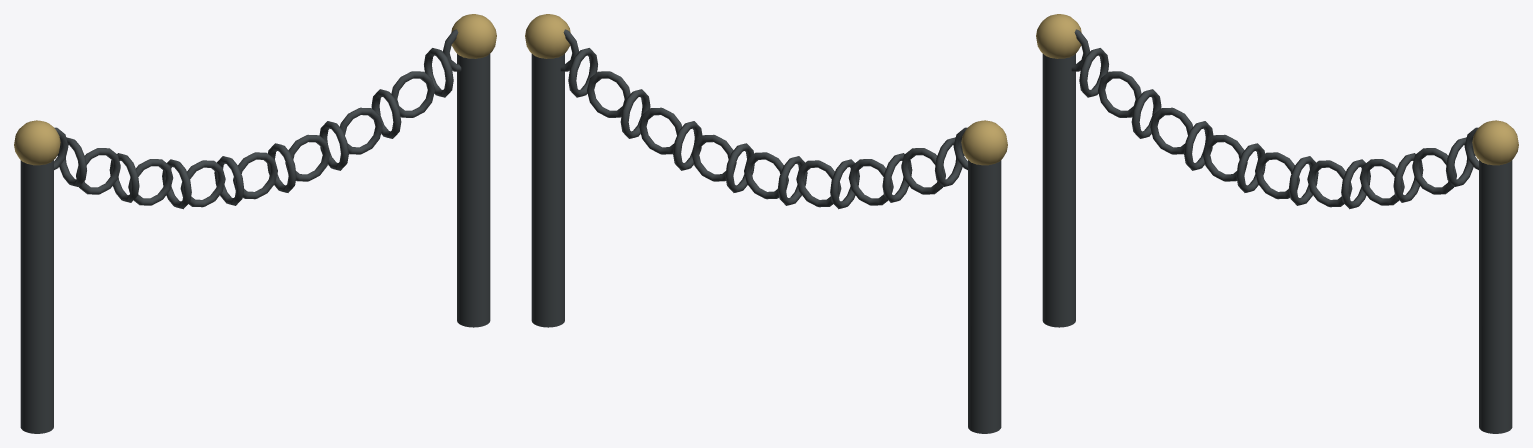
File: undercity-sewers-and-thieves-den-chain-barrier-746b49bd__27215.glb
3 views of the same model, side by side, from view 1: azimuth 30°, elevation 25°; view 2: azimuth 150°, elevation 25°; view 3: azimuth 330°, elevation 25° (orthographic).
Parts seen in each view (by area): view 1: chain-barrier; view 2: chain-barrier; view 3: chain-barrier.
Boxes of the visible parts, x1,y1,x2,y2 form: chain-barrier: (14, 14, 496, 433); chain-barrier: (525, 14, 1007, 433); chain-barrier: (1036, 14, 1518, 433).
Bounding box in the file's own units: 1.64 × 1 × 0.1539.
